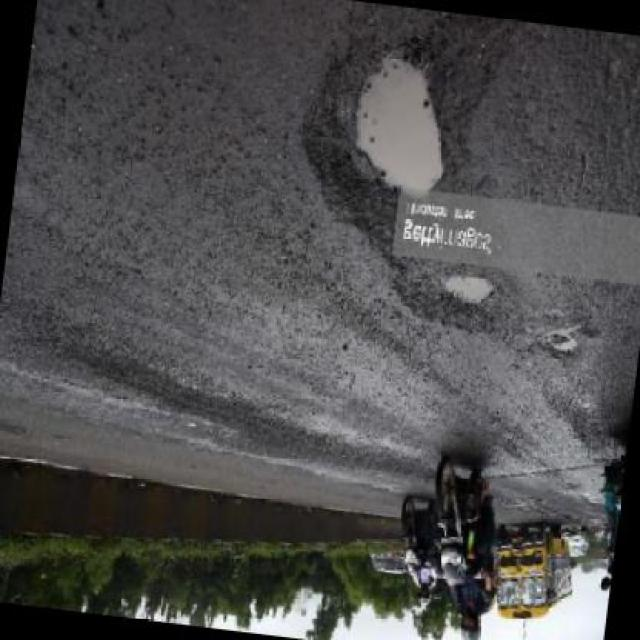pothole: (286, 2, 509, 249), (379, 258, 515, 345), (532, 315, 588, 367)
